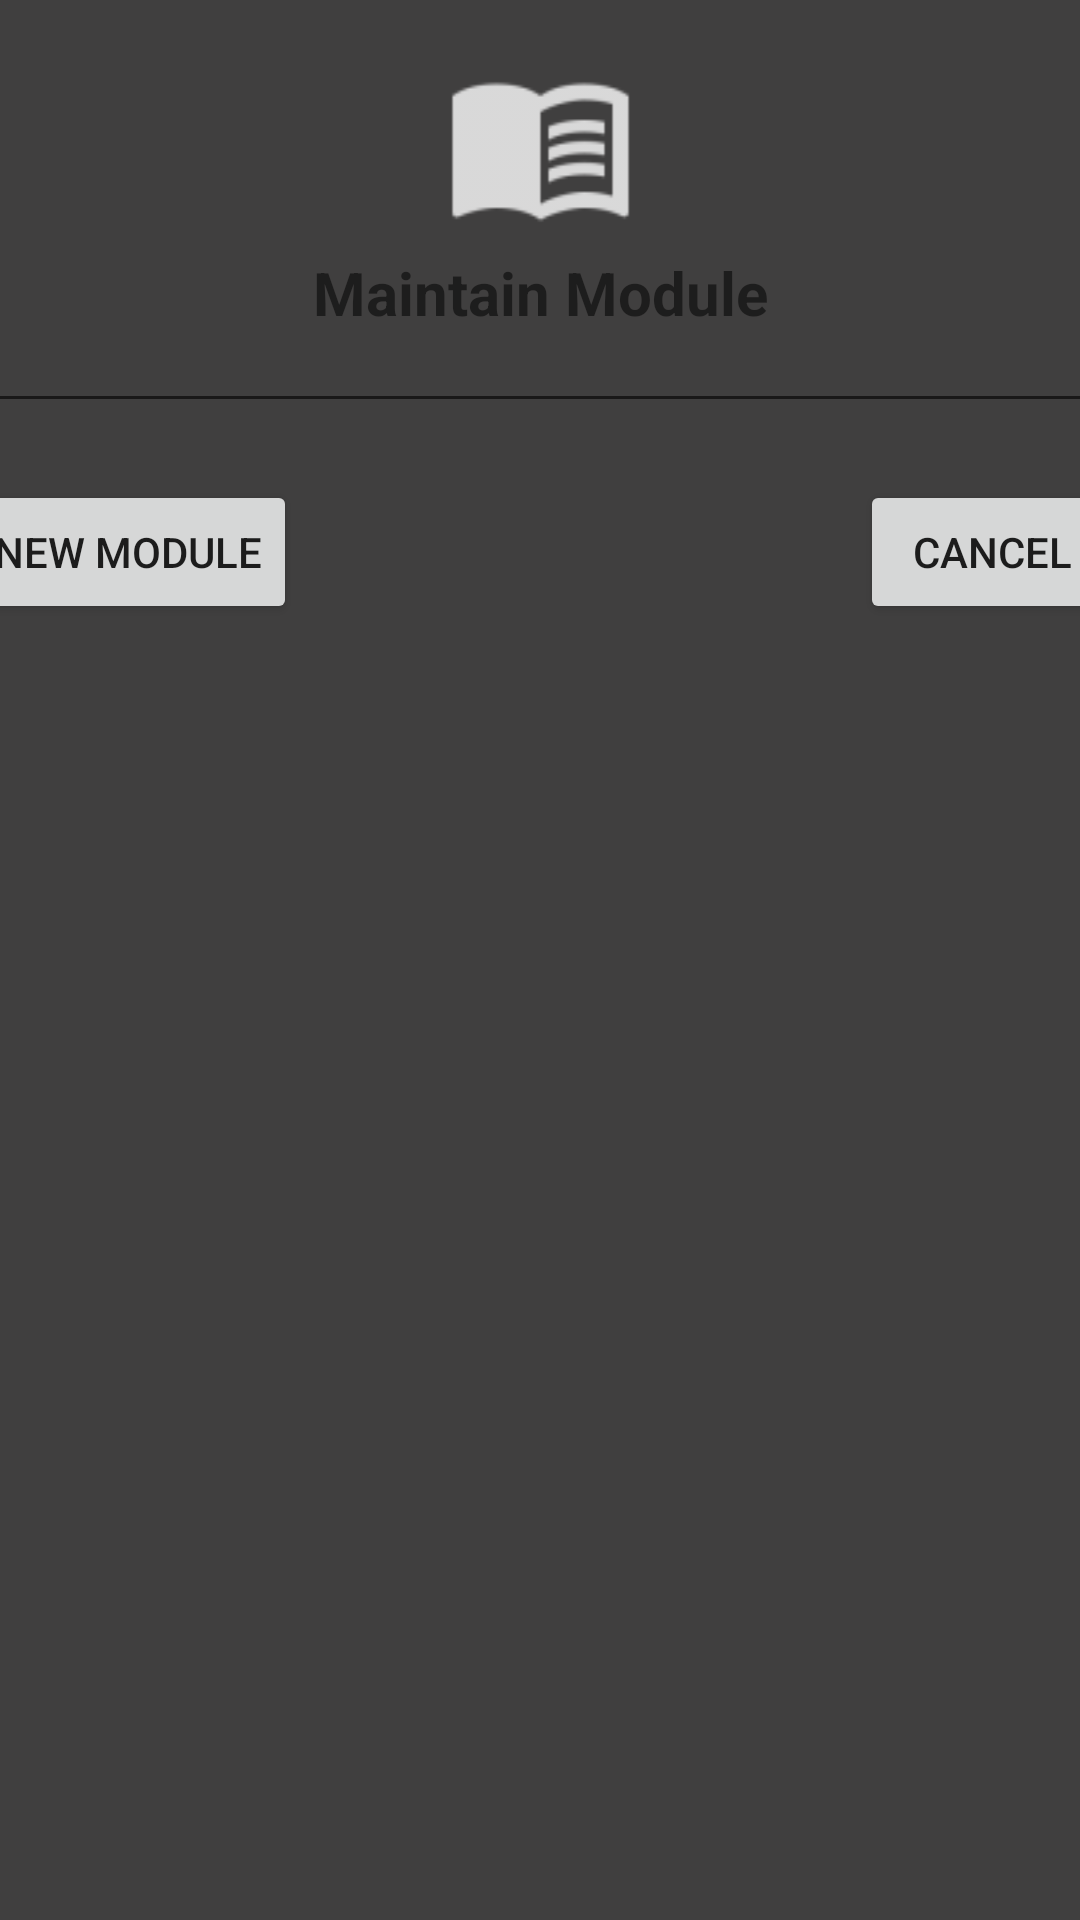

Screen size 1080*1920. Icon name, then its box in pixels as rect(x1, y1, x2, y2):
book: rect(452, 82, 629, 221)
